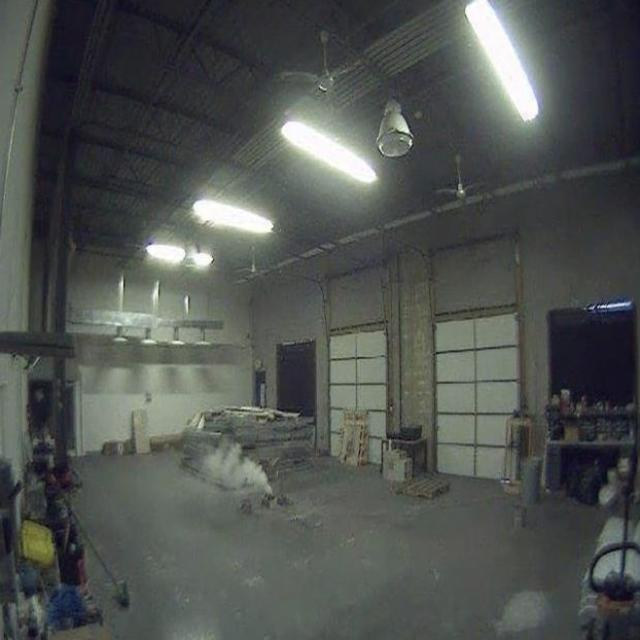fire: (204, 428, 286, 510)
